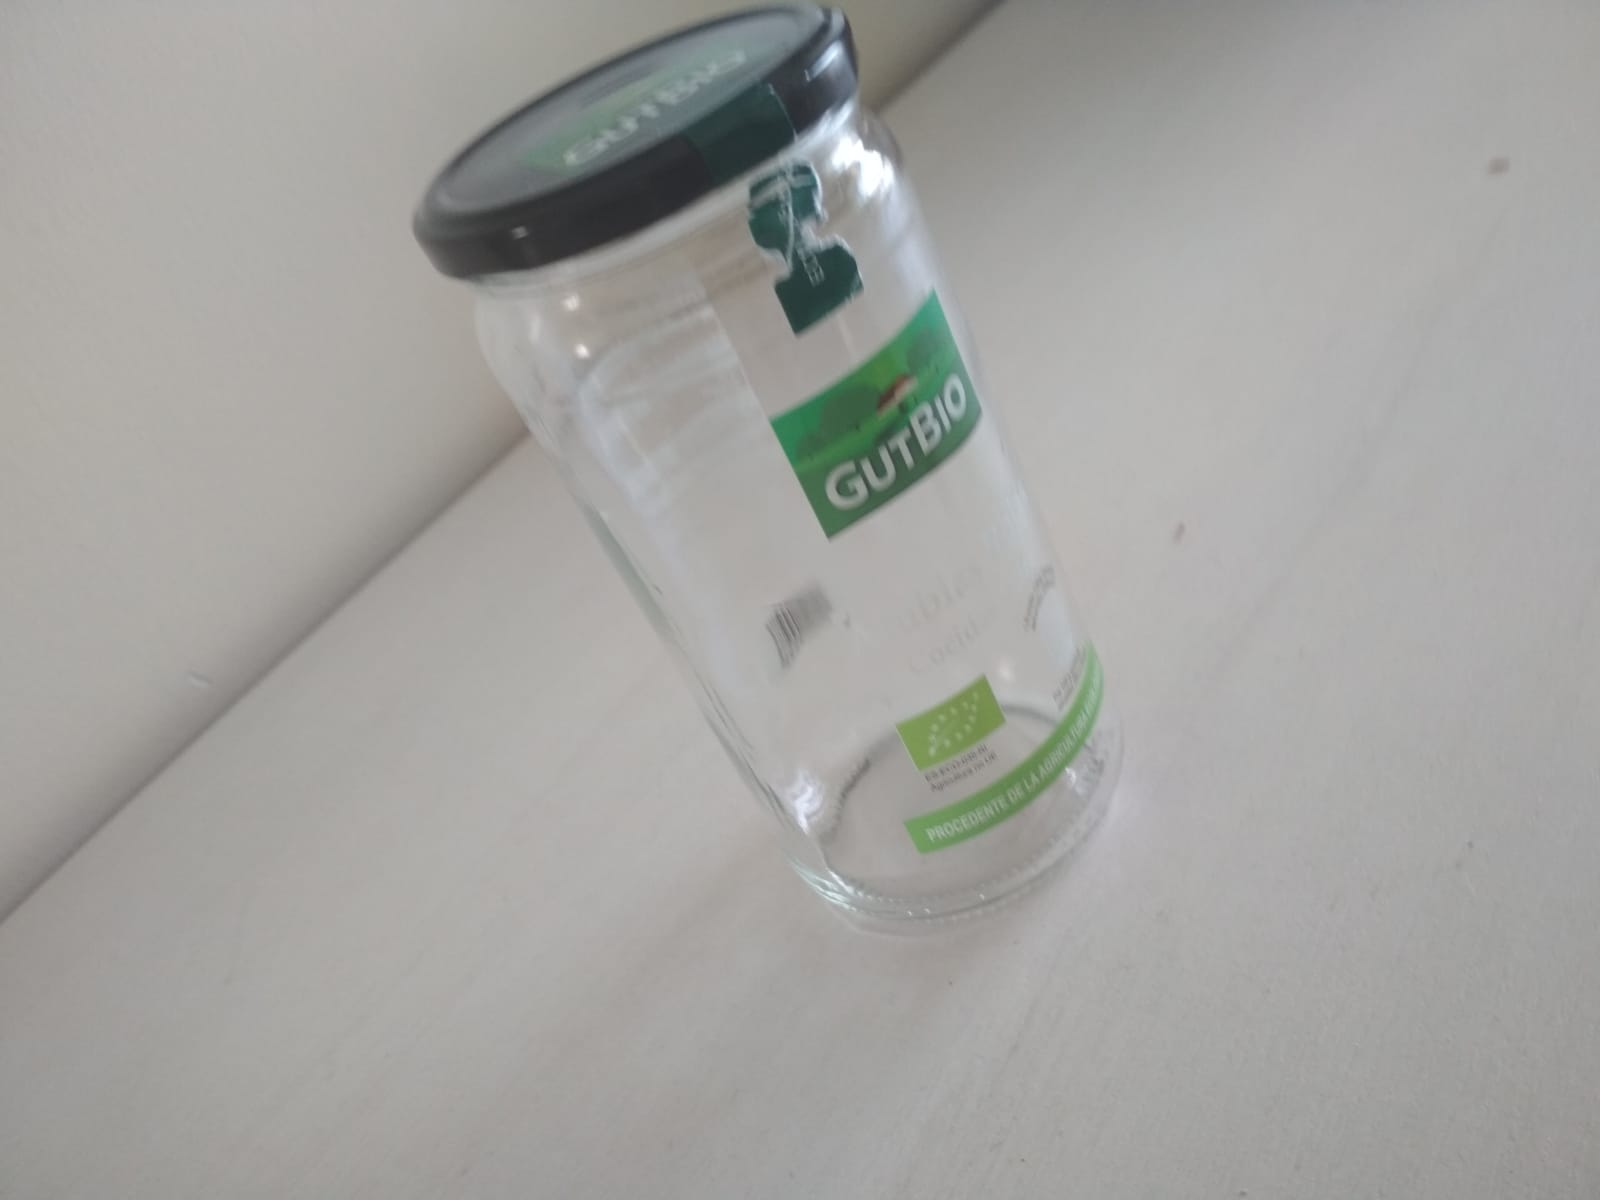pote cristal: (409, 1, 1126, 934)
